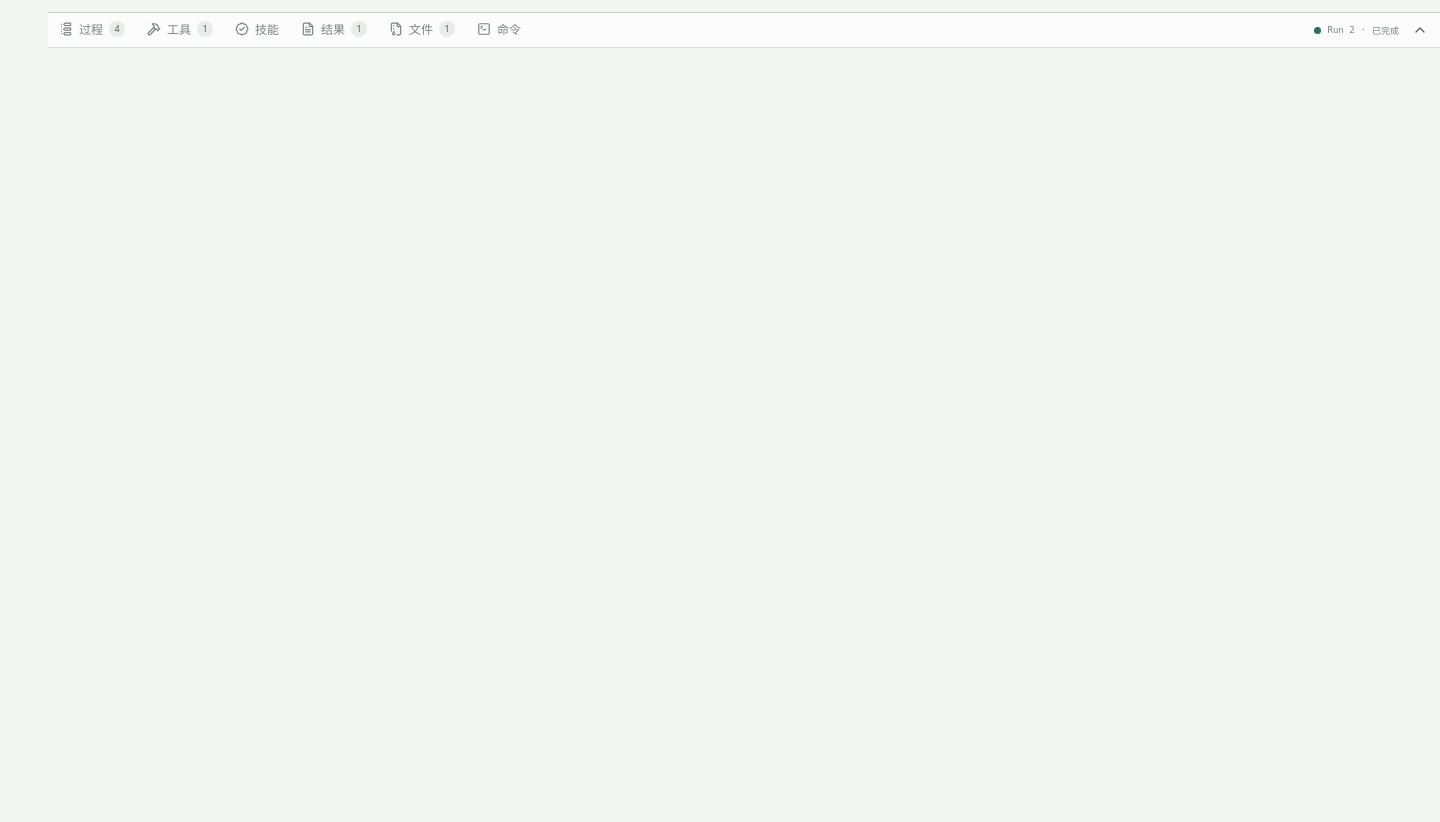
Test: RunDrawer › renders requested and reported Provider identity for accepted alias
Click the tab "结果 1" at x=334, y=30, box [290,13,378,47]
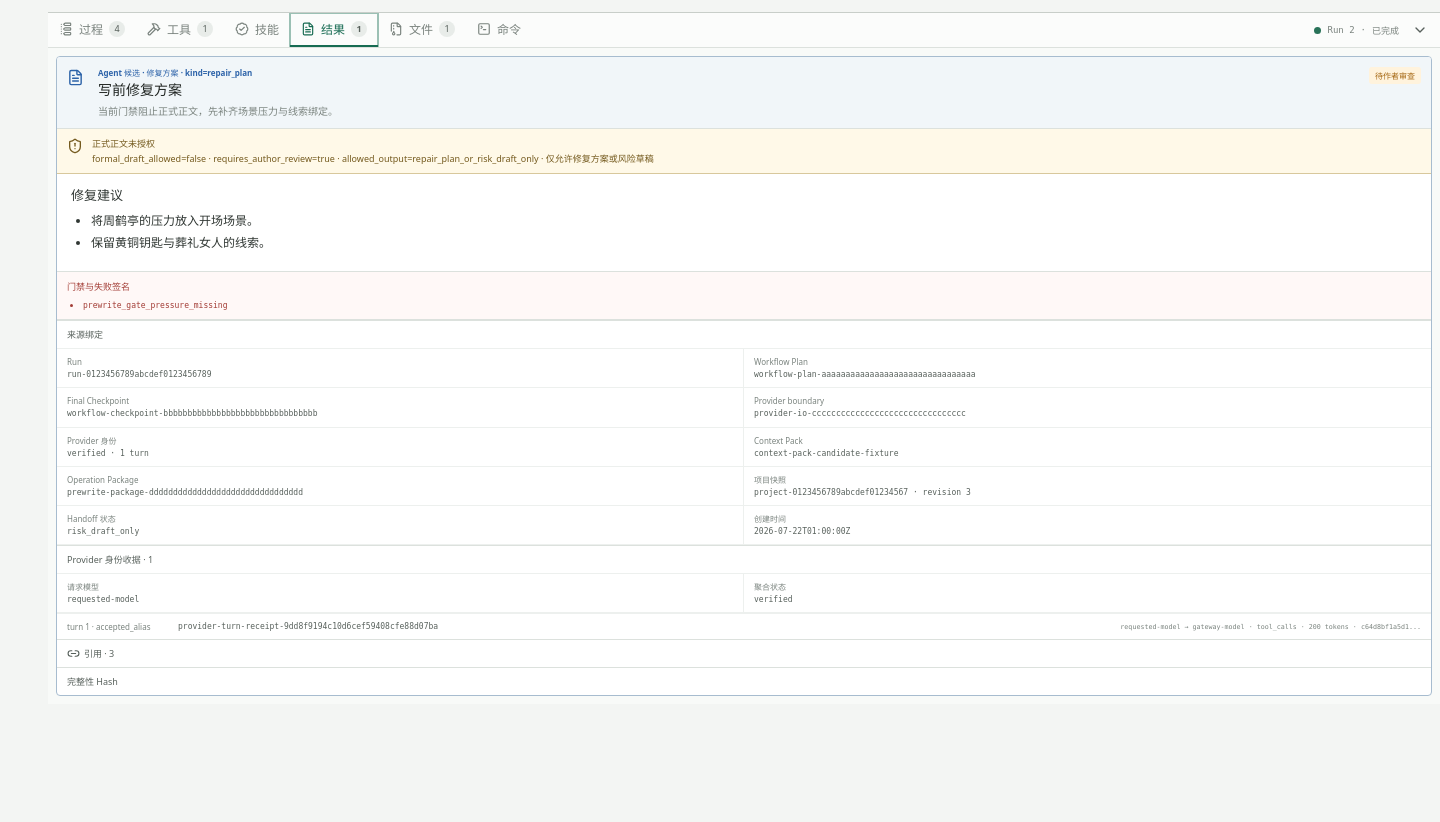
Expected: the text "verified · 1 turn" is shown, [67,449,149,458]
Expected: the text "requested-model → gateway-model · tool_calls" is shown, [1120,623,1421,631]
